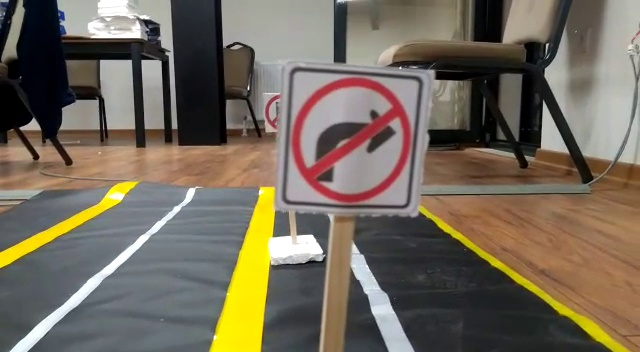saga_donulmez: (287, 67, 410, 209)
